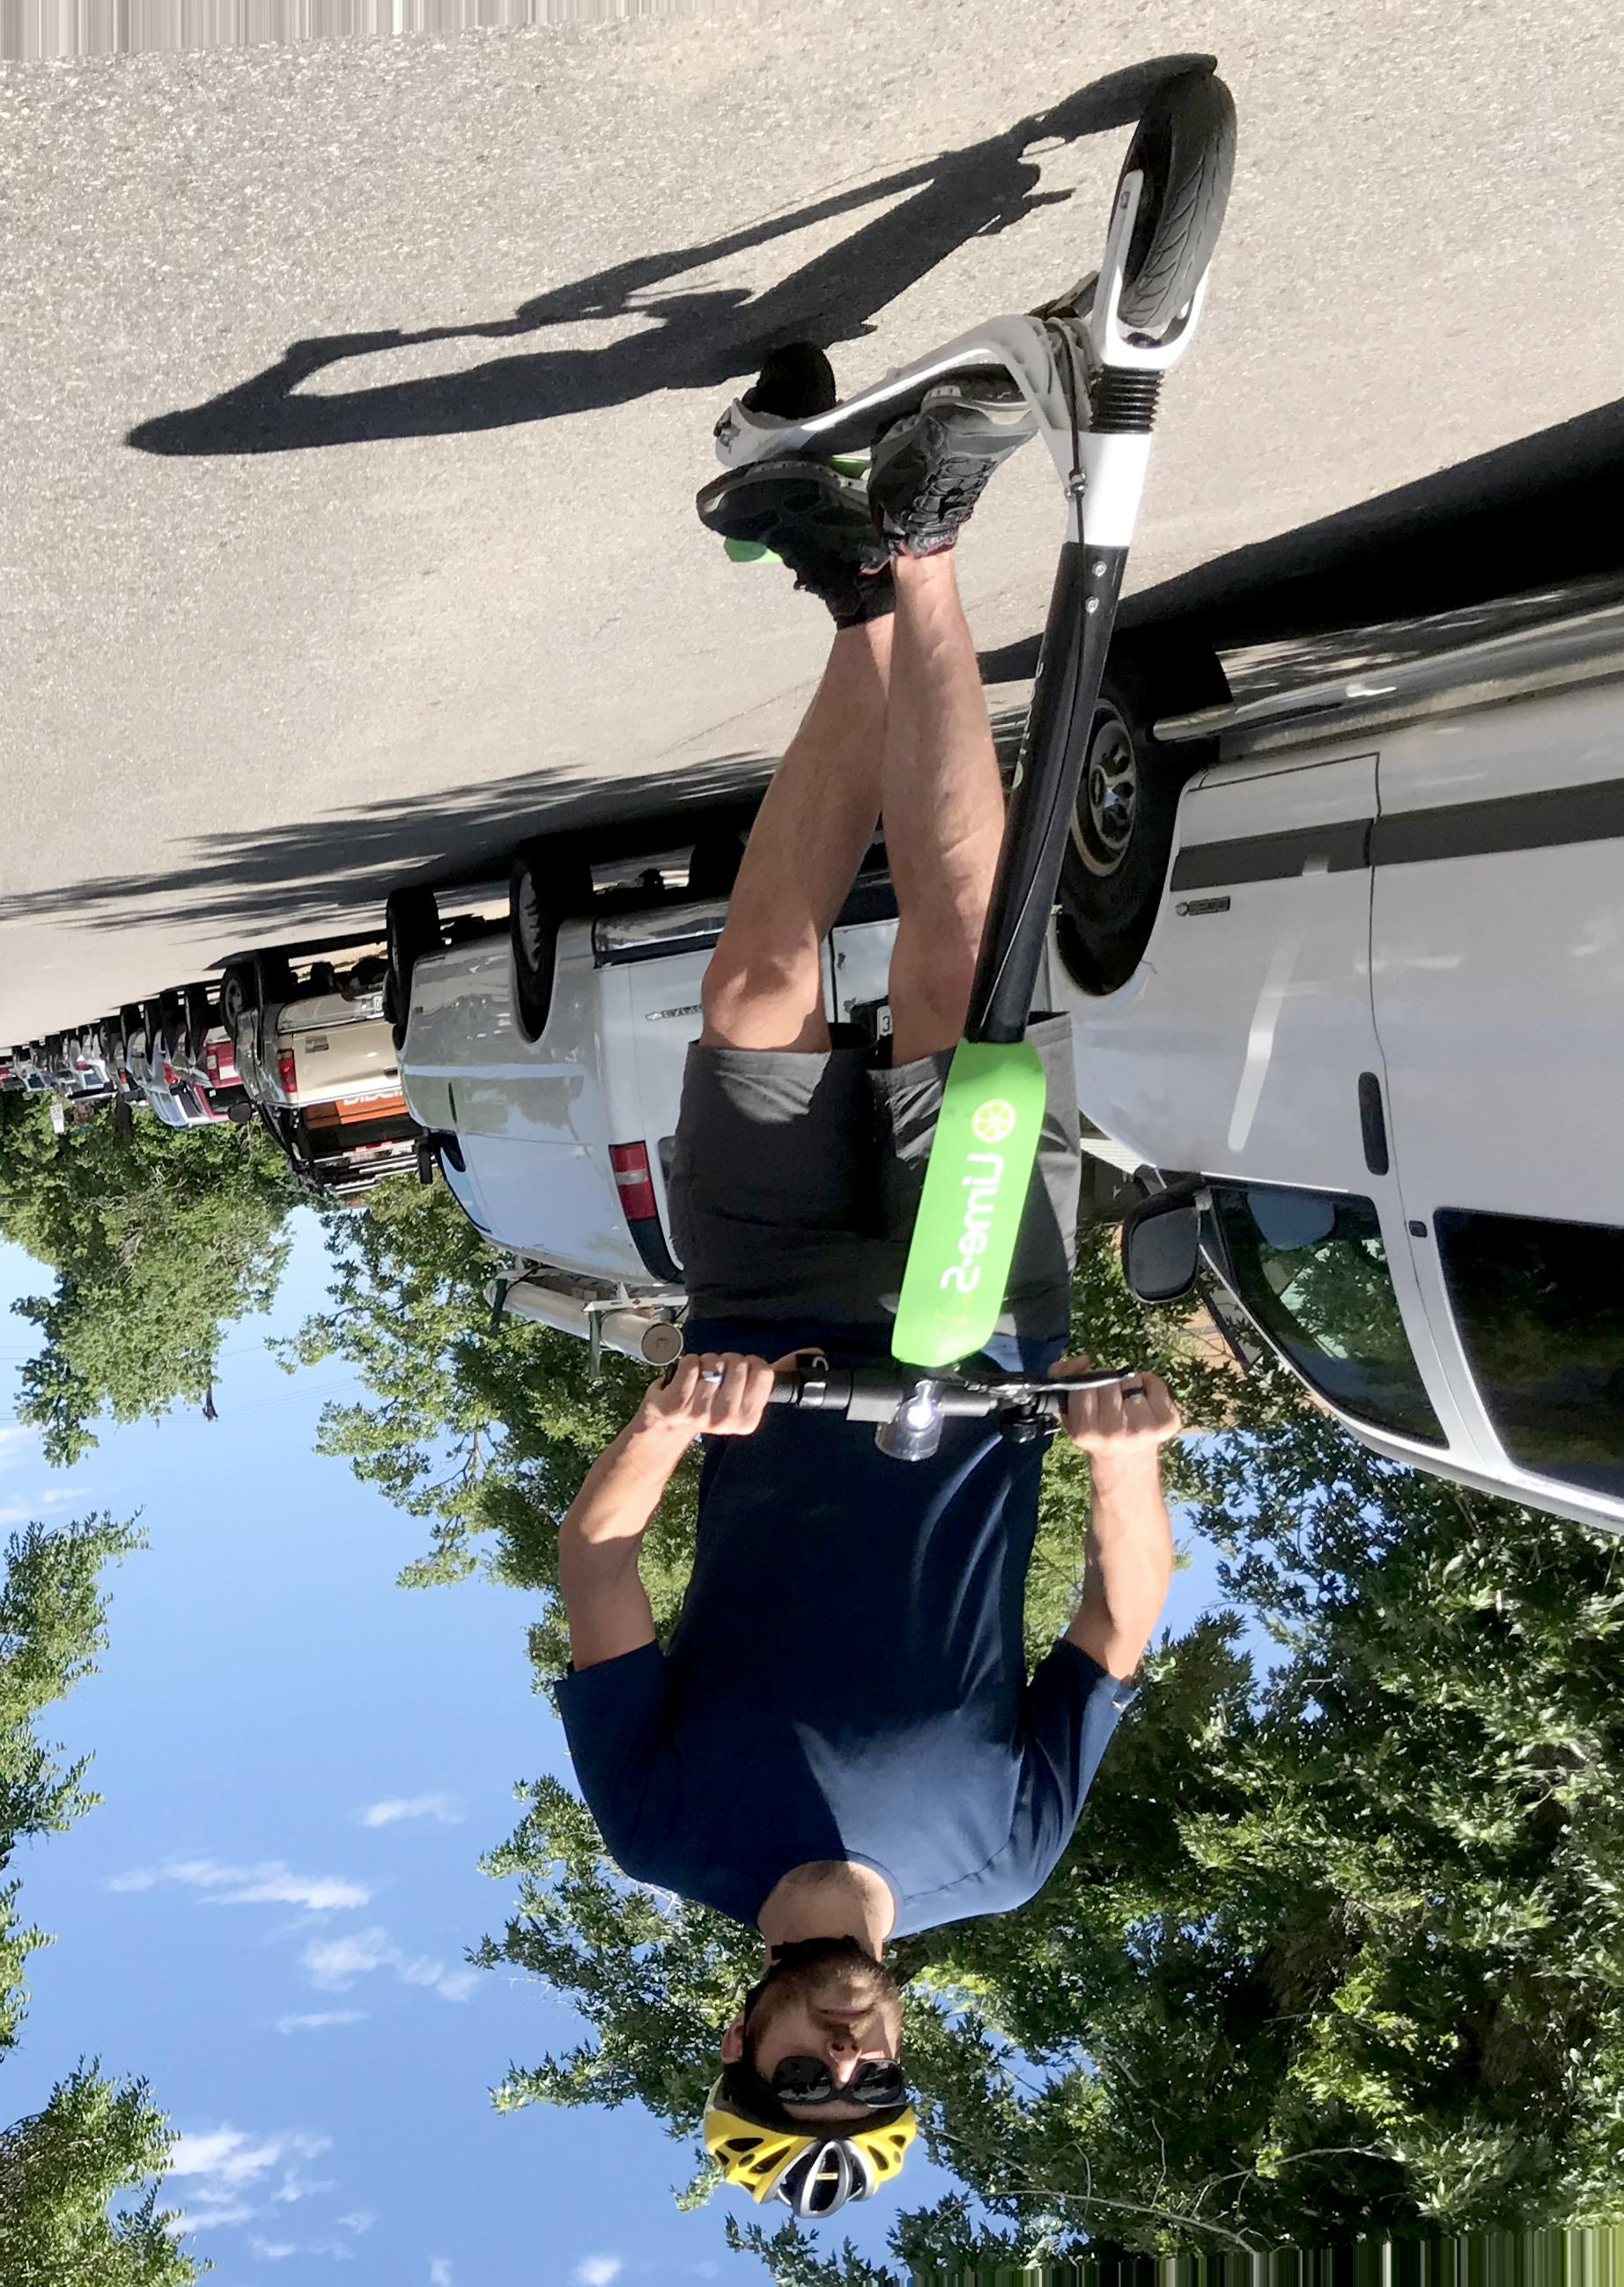scooter: (677, 70, 1237, 1472)
with helmet: (696, 1946, 928, 2227)
